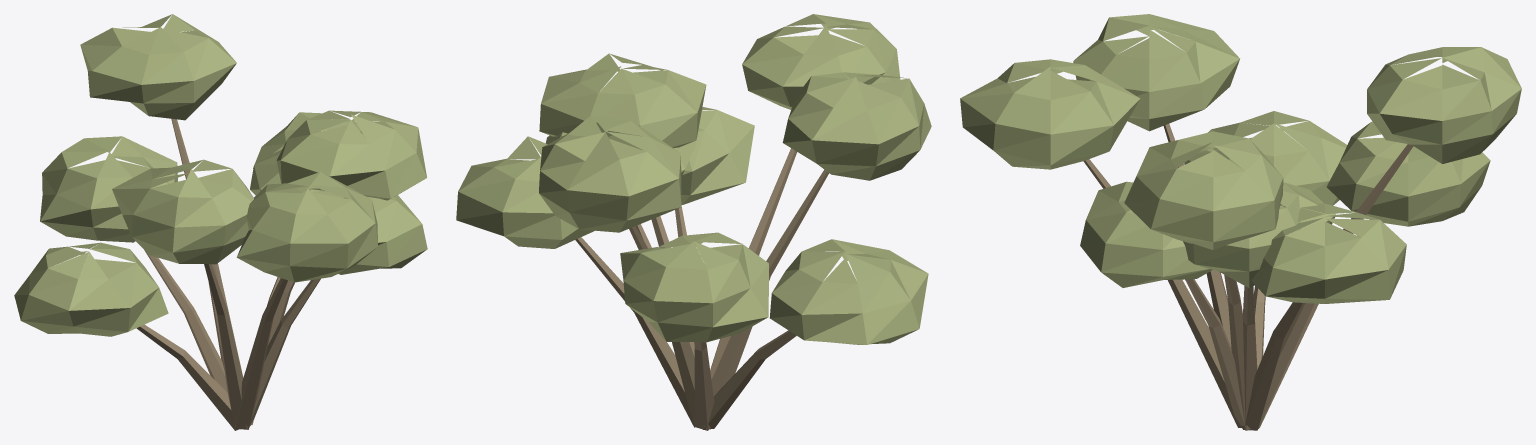
File: desert-canyons-and-oases-creosote-bush-0cc4efc2__21003.glb
The picture shows the model from 3 angles, left to right: view 1: azimuth 30°, elevation 25°; view 2: azimuth 150°, elevation 25°; view 3: azimuth 270°, elevation 25°; orthographic projection. The views are drawn at different scales.
Visible parts, largest first — view 1: creosote-bush; view 2: creosote-bush; view 3: creosote-bush.
Boxes of the visible parts, x1,y1,x2,y2 form: creosote-bush: [14, 14, 427, 430]; creosote-bush: [456, 14, 931, 430]; creosote-bush: [960, 14, 1521, 430].
Bounding box in the file's own units: 1.95 × 1.6 × 2.17.
